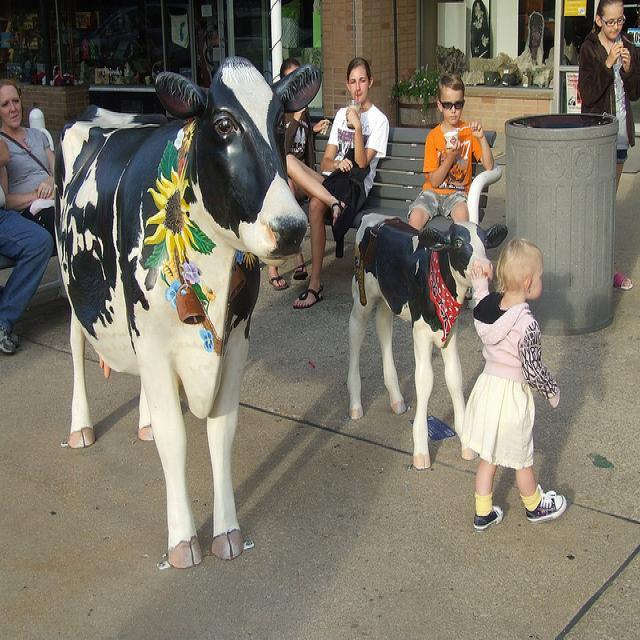cow: (44, 56, 321, 568), (345, 211, 503, 469)
